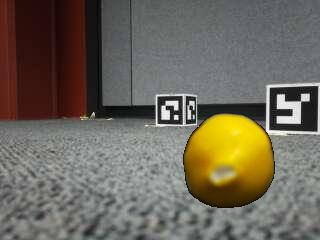lemon: (185, 116, 272, 209)
